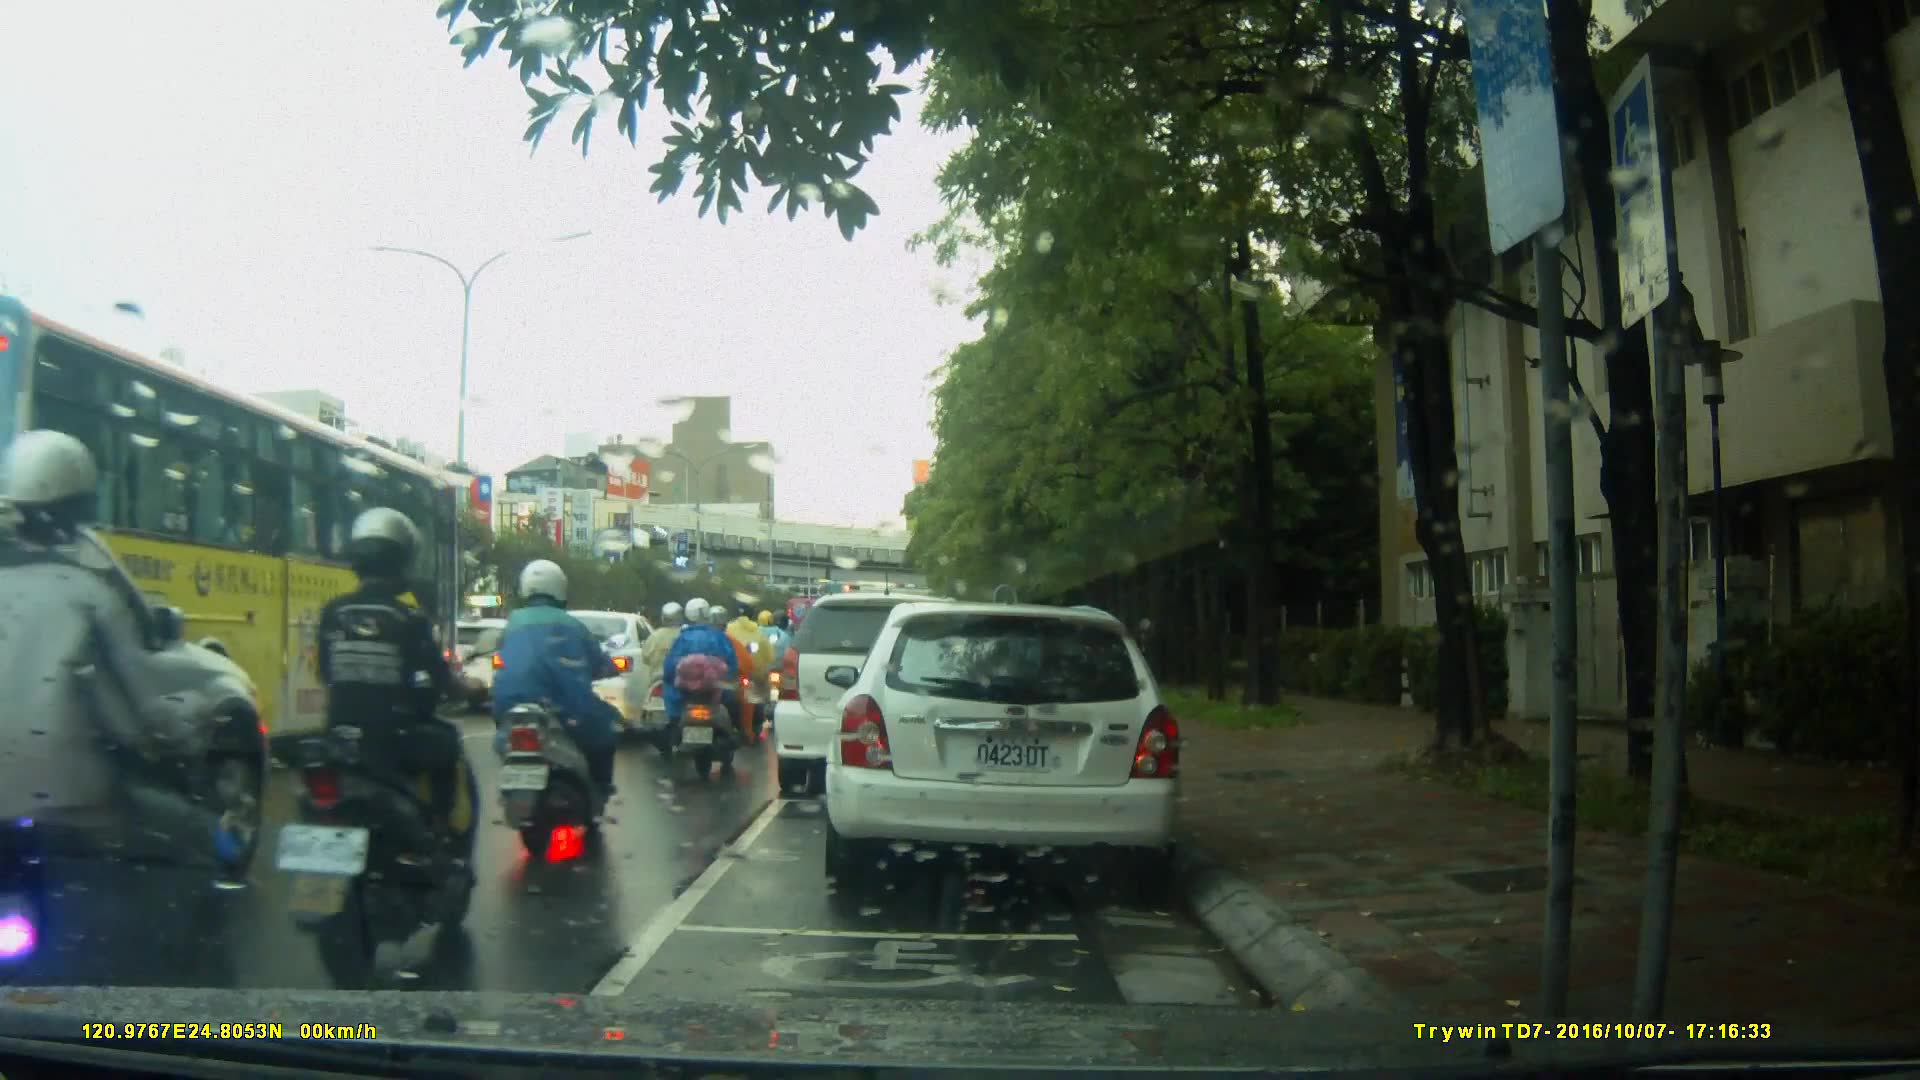rider: (1, 437, 269, 1034), (274, 505, 486, 966), (496, 549, 621, 865), (661, 597, 761, 781), (640, 596, 717, 762), (717, 594, 776, 739)
vehicle: (1, 303, 473, 778), (1, 482, 281, 945), (835, 594, 1194, 898), (776, 590, 1026, 784), (497, 608, 688, 740)
